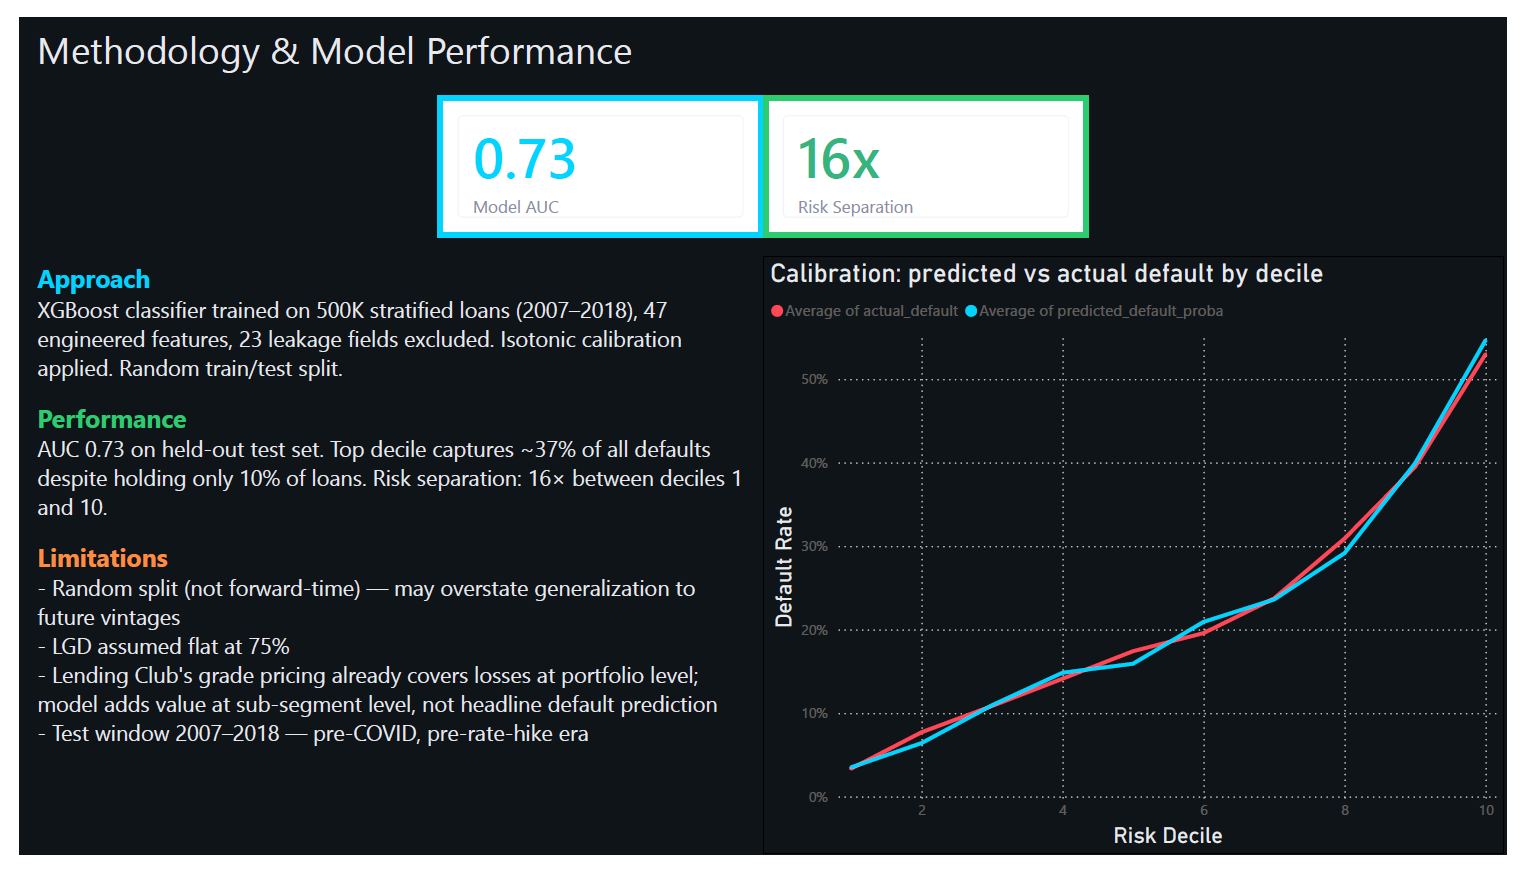

The dashboard page shown, as its layout file describes it:
{"tool":"powerbi","page":{"name":"Methodology","canvas":[1280,720],"ordinal":4},"visuals":[{"type":"textbox","box":[10,0,567.5,65],"z":0},{"type":"textbox","box":[9.5,204.9,630.2,514.6],"z":1000},{"type":"cardVisual","fields":{"Data":["Approval Threshold.Model AUC"]},"box":[359.8,66.7,280,122.7],"z":2000},{"type":"cardVisual","fields":{"Data":["Approval Threshold.Risk Separation"]},"box":[639.7,66.7,280,122.7],"z":3000},{"type":"lineChart","title":"Calibration: predicted vs actual default by decile","fields":{"Category":["loan_predictions.risk_decile"],"Y":["Avg(loan_predictions.actual_default)","Avg(loan_predictions.predicted_default_proba)"]},"box":[639.7,204.9,638.5,514.6],"z":4000}]}

Visuals, with their boxes in screenshot pixels (x1, y1, x2, y2), scaled from the page's 1280x720 canvas onto the 1529x882 screenshot:
textbox: (x1=12, y1=0, x2=690, y2=80)
textbox: (x1=11, y1=251, x2=764, y2=881)
cardVisual - Approval Threshold.Model AUC: (x1=430, y1=82, x2=764, y2=232)
cardVisual - Approval Threshold.Risk Separation: (x1=764, y1=82, x2=1099, y2=232)
"Calibration: predicted vs actual default by decile" lineChart: (x1=764, y1=251, x2=1527, y2=881)
